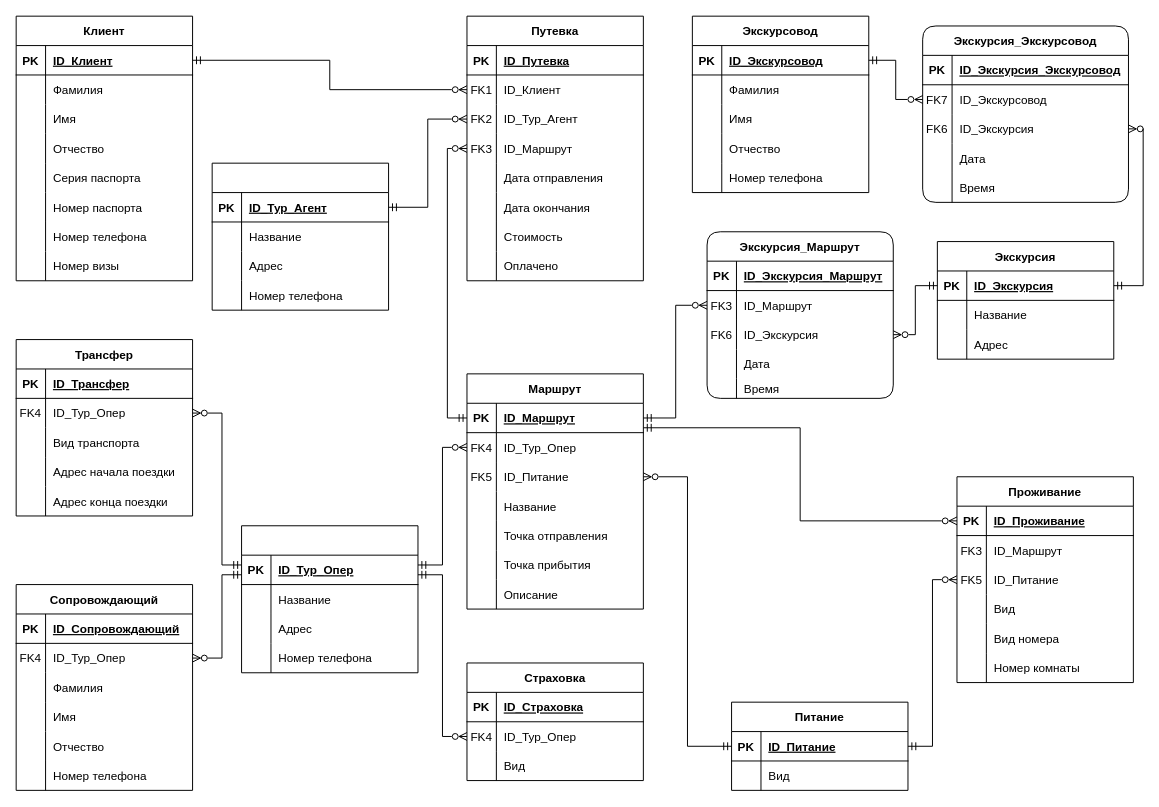
Some shapes in this 1159 by 807 pixel diagram are drawn without their labels. The shapes that lost their labels are listed below. From the top down, each one's box as (x1, y1, x2, y2) in pixels, then its label:
(211, 162, 389, 310): Туристическое агентство
(241, 525, 418, 673): Туроператор
